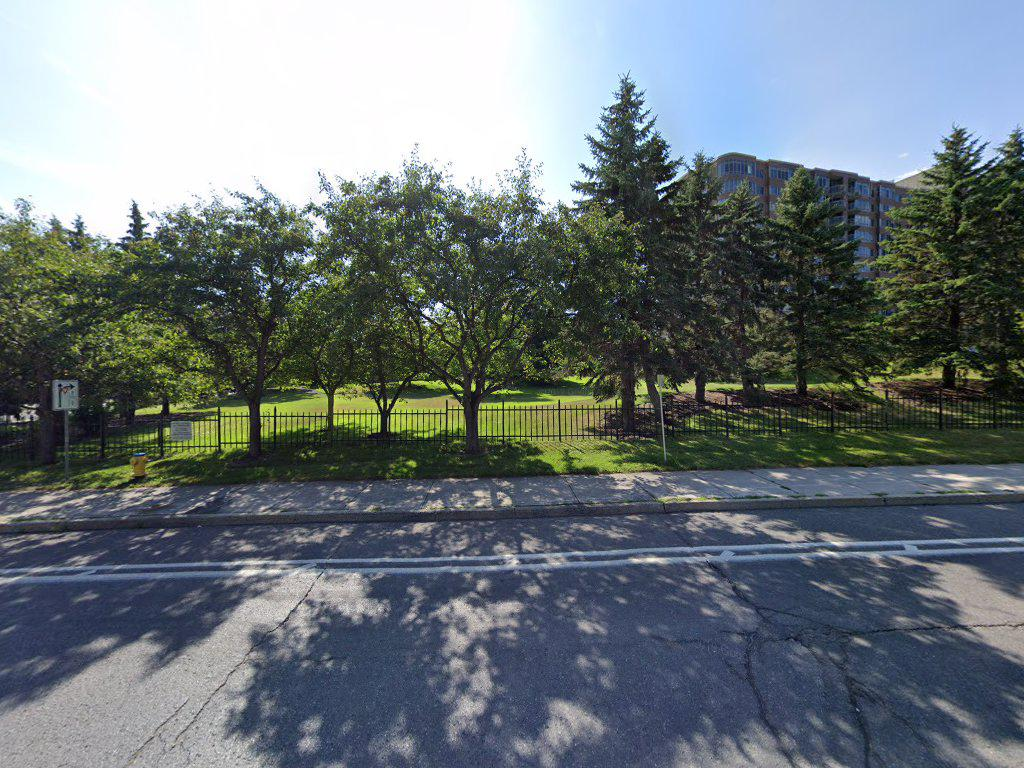trunk: (454, 378, 487, 452), (238, 393, 268, 454), (619, 372, 640, 427), (372, 394, 395, 440), (318, 389, 341, 434)
